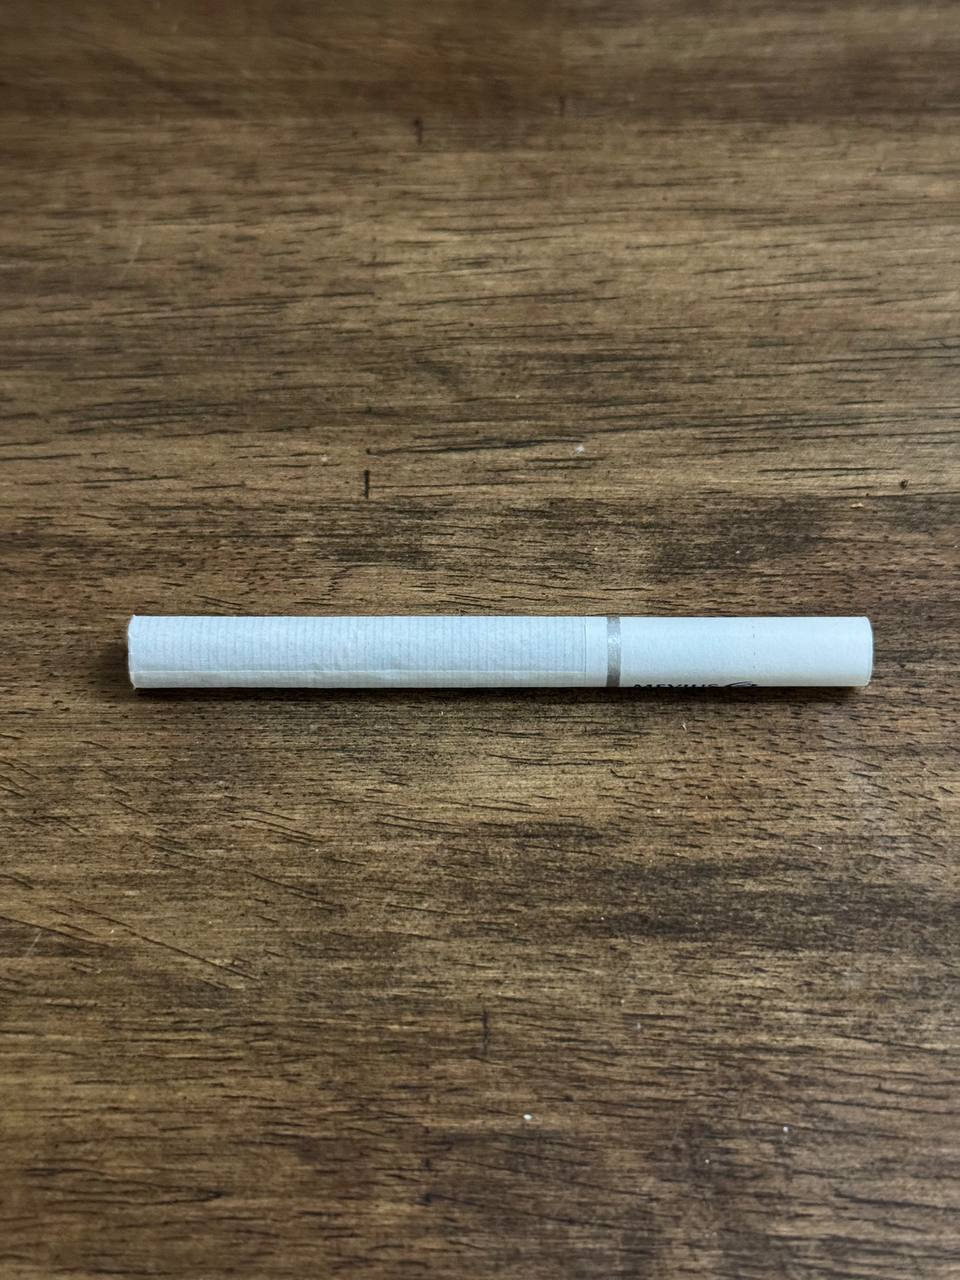trash: (114, 606, 878, 698)
